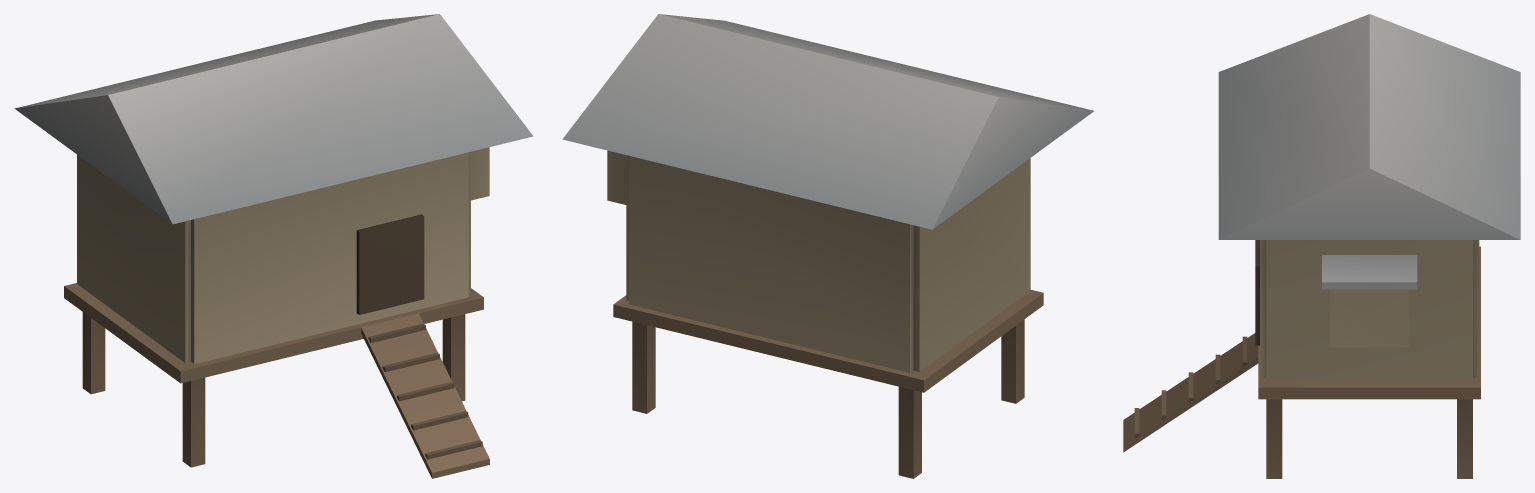
Rendered from chicken_coop_lod0.glb.
3 views of the same model, side by side, from view 1: azimuth 30°, elevation 25°; view 2: azimuth 150°, elevation 25°; view 3: azimuth 270°, elevation 25° (orthographic). The views are drawn at different scales.
Visible parts, largest first — view 1: chicken_coop_lod0; view 2: chicken_coop_lod0; view 3: chicken_coop_lod0.
Boxes of the visible parts, x1,y1,x2,y2 form: chicken_coop_lod0: (14,14,533,478); chicken_coop_lod0: (562,14,1093,478); chicken_coop_lod0: (1123,14,1520,478).
Size of the model in its own units: 2.65 by 2.25 by 2.5.
